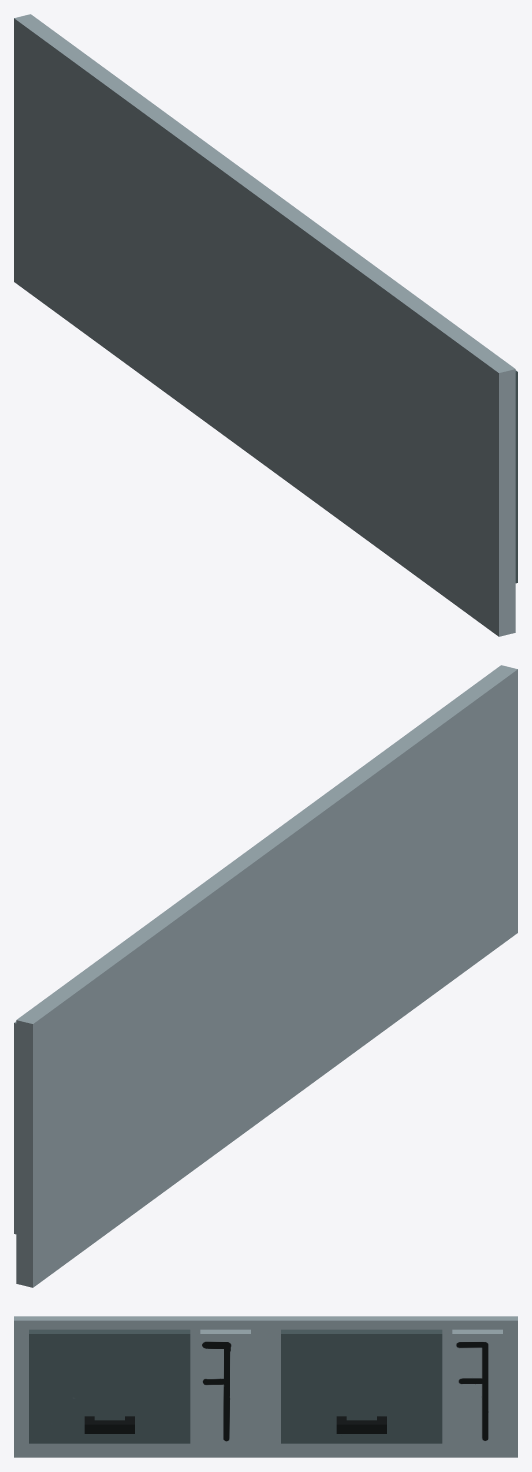
Rendered from Diningroom-issuancewindow.glb.
3 renders of one model, top to bottom at view 1: azimuth 30°, elevation 25°; view 2: azimuth 150°, elevation 25°; view 3: azimuth 270°, elevation 25°, orthographic. The views are drawn at different scales.
Visible parts, largest first — view 1: Cube.001; view 2: Cube.001; view 3: Cube.001.
Part boxes in pixels (box(x1,y1,x2,y2)): Cube.001: box(14, 14, 517, 636); Cube.001: box(14, 665, 517, 1287); Cube.001: box(14, 1316, 517, 1457).
Size of the model in its own units: 0.8 by 3 by 10.
Materials: 1 (1 with a texture image).
